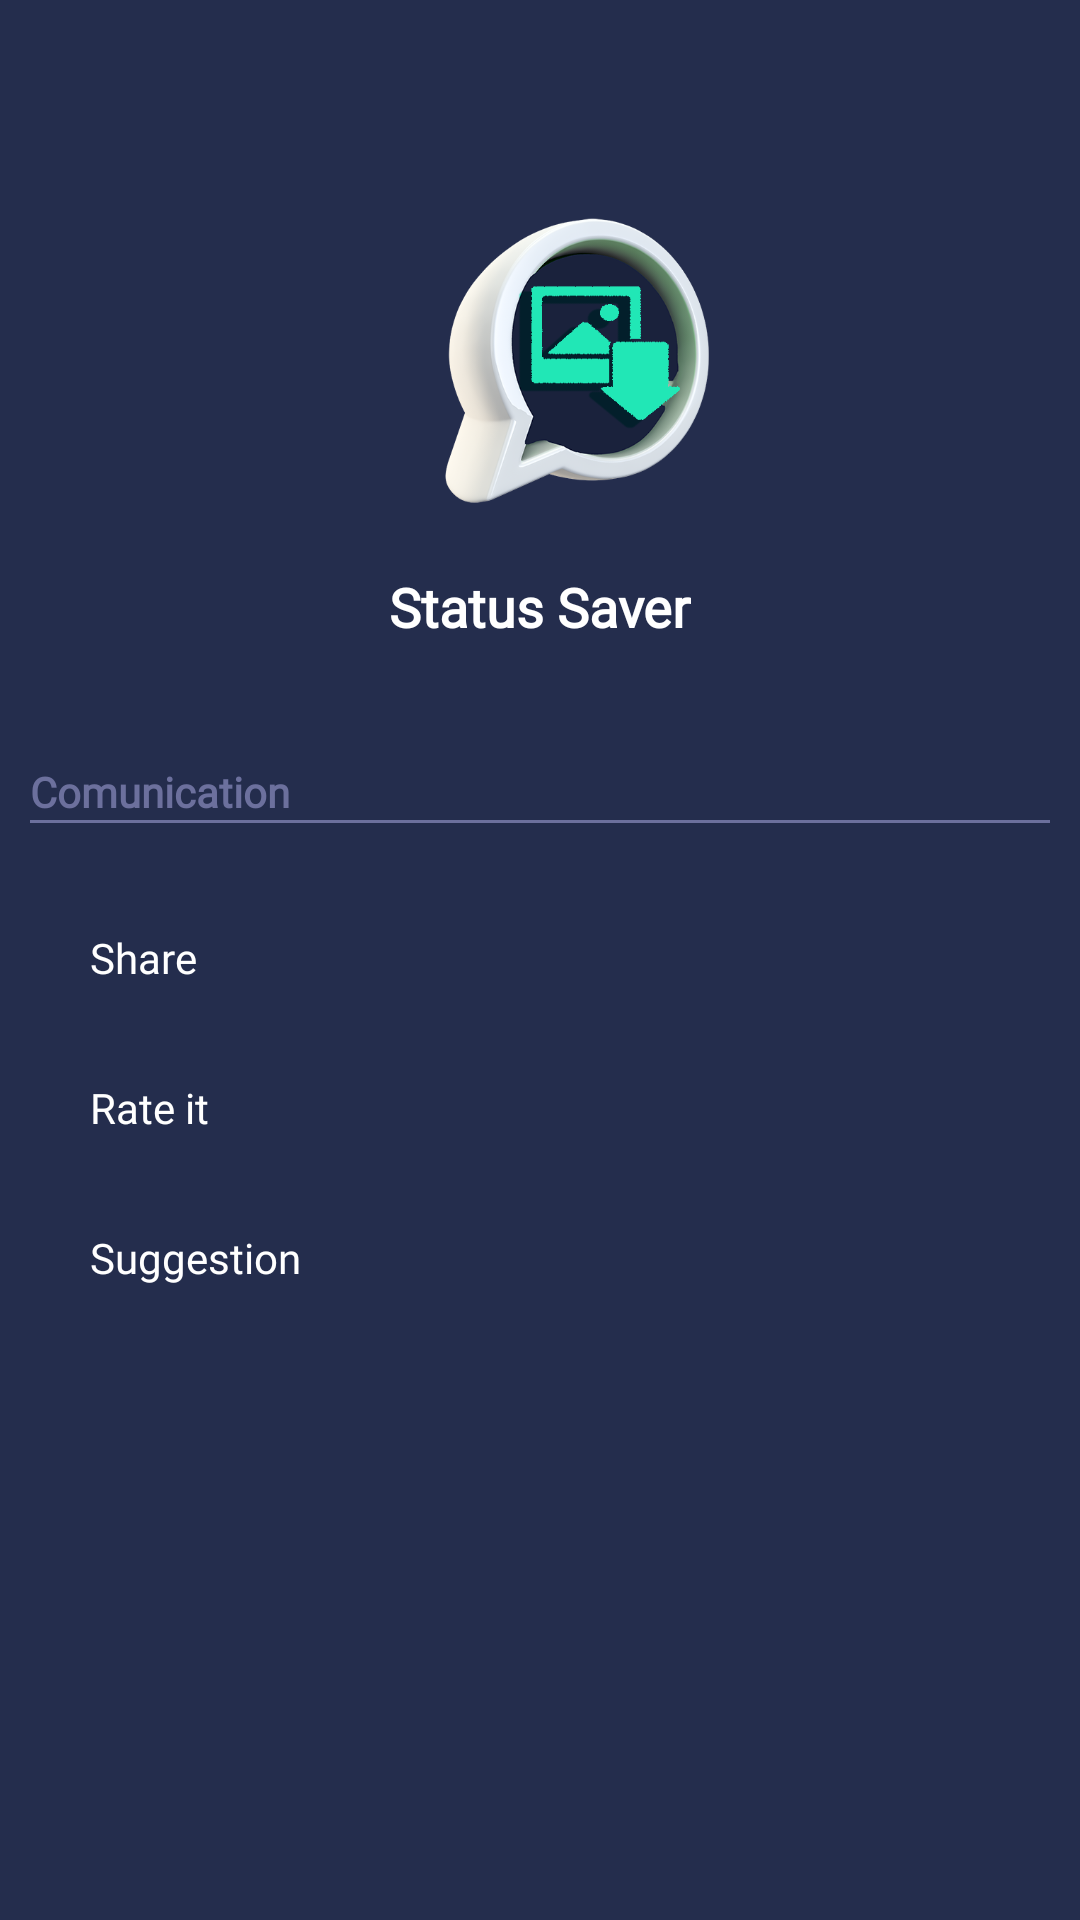

Icons on this 1080×1920 Android screen, each with the point to tap as point (x, y):
whatsappstatusapp: point (577, 360)
